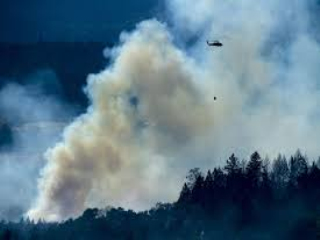smoke: (34, 77, 127, 220)
